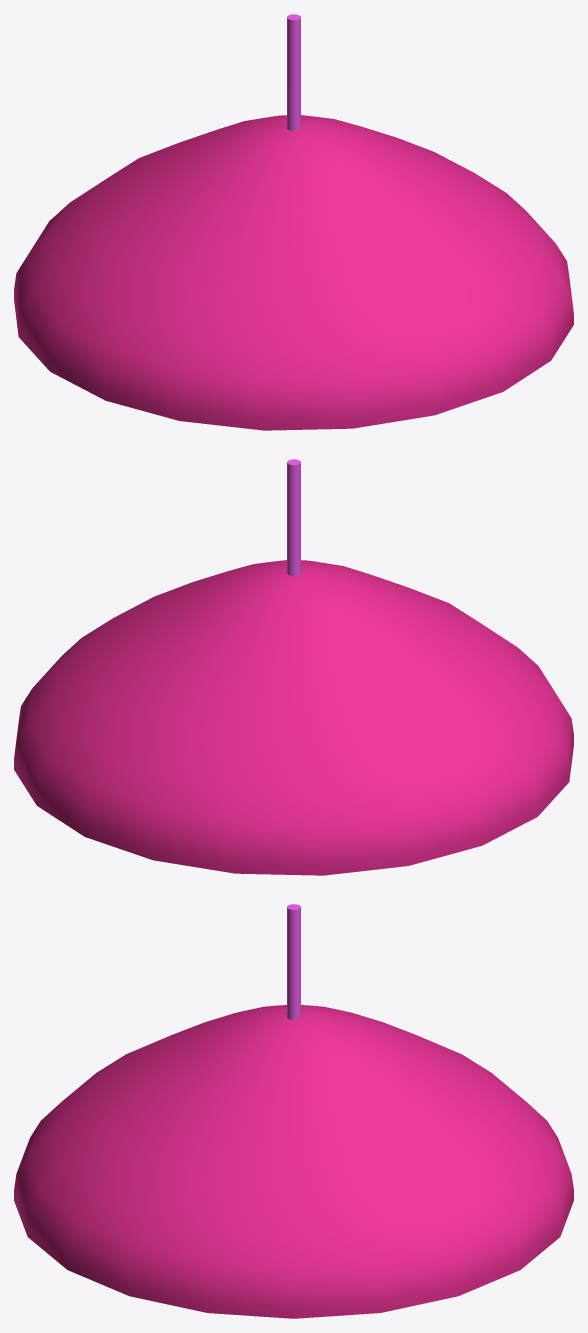
3 renders of one model, top to bottom at view 1: azimuth 30°, elevation 25°; view 2: azimuth 150°, elevation 25°; view 3: azimuth 270°, elevation 25°, orthographic.
Parts seen in each view (by area): view 1: pCylinder1_lambert8_0, pCylinder1_lambert8_0.003; view 2: pCylinder1_lambert8_0, pCylinder1_lambert8_0.003; view 3: pCylinder1_lambert8_0, pCylinder1_lambert8_0.003.
Boxes of the visible parts, box(x1,y1,x2,y2) form: pCylinder1_lambert8_0: box(14, 115, 573, 430); pCylinder1_lambert8_0.003: box(287, 14, 300, 130); pCylinder1_lambert8_0: box(14, 560, 573, 875); pCylinder1_lambert8_0.003: box(287, 459, 300, 575); pCylinder1_lambert8_0: box(14, 1005, 573, 1318); pCylinder1_lambert8_0.003: box(287, 904, 300, 1020).
Bounding box in the file's own units: 1 × 0.6467 × 1.
